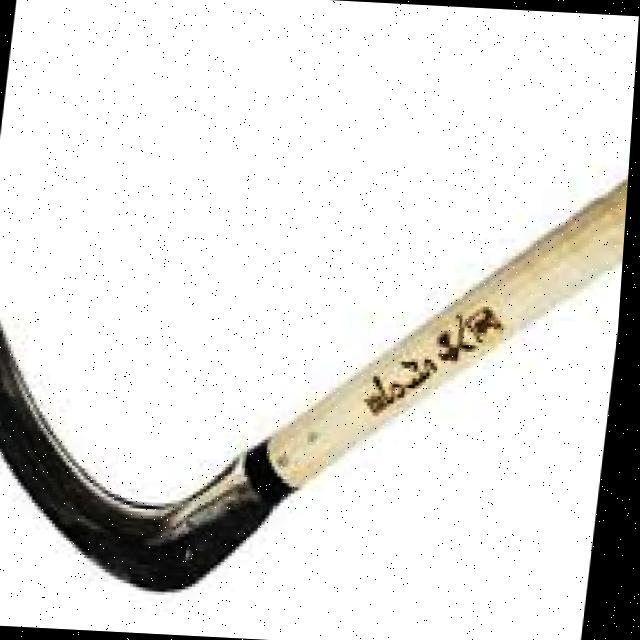sickle: (0, 55, 637, 617)
